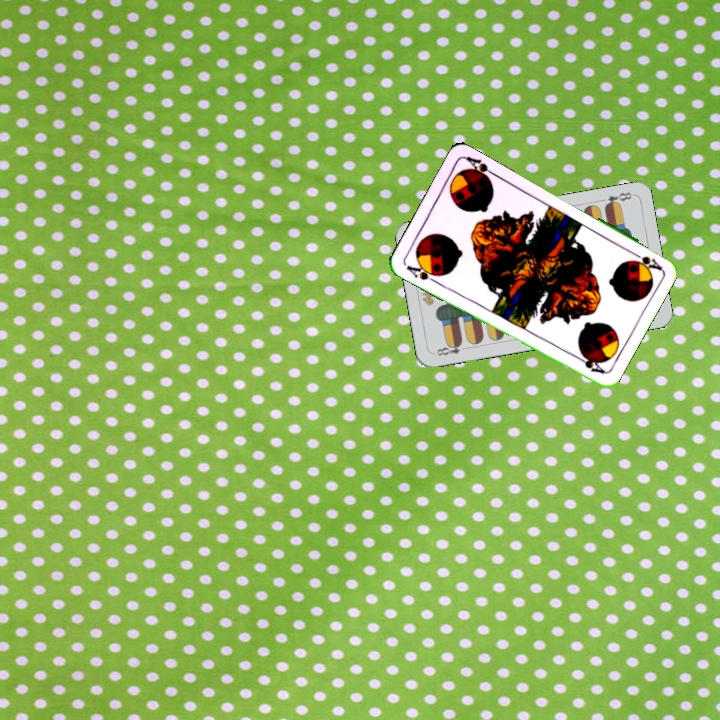E8: (430, 338, 471, 358), (600, 188, 634, 210)
SA: (402, 259, 443, 286), (626, 247, 664, 274)
